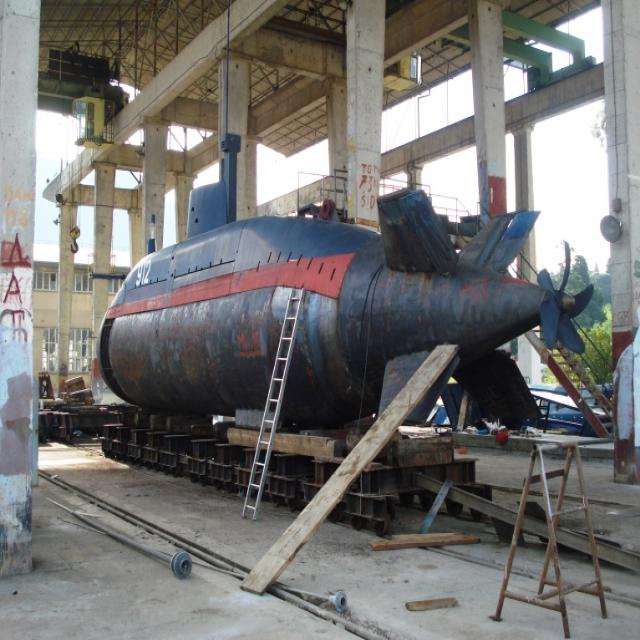submarine: (108, 131, 553, 433)
